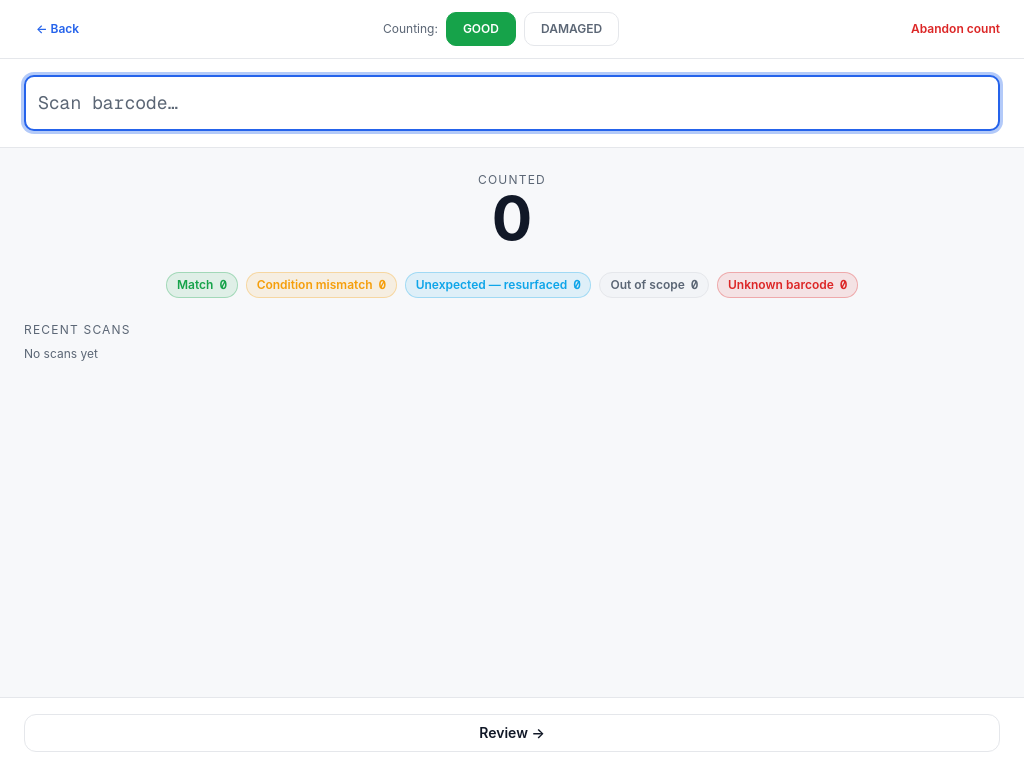
Test: Flexible labeling on, no untagged stock — today's flows › ro5 — Stock take: no untagged-count panel; a scan counts as today
This screenshot has width=1024, height=768.
Type "P000200" into the field with placeholder "Scan barcode…" at (512, 103), box x1=24 y1=75 x2=1000 y2=131
Then press Enter
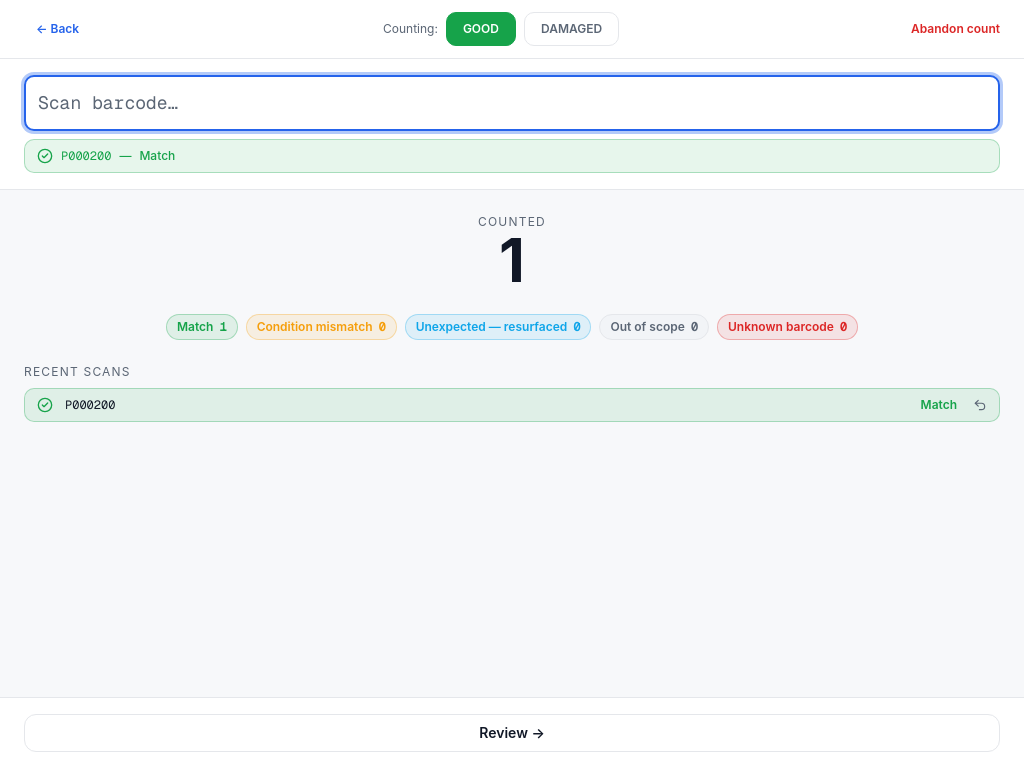
Result: the element with test id "last-scan-feedback" shows "Match" at x1=139 y1=148 x2=175 y2=163
